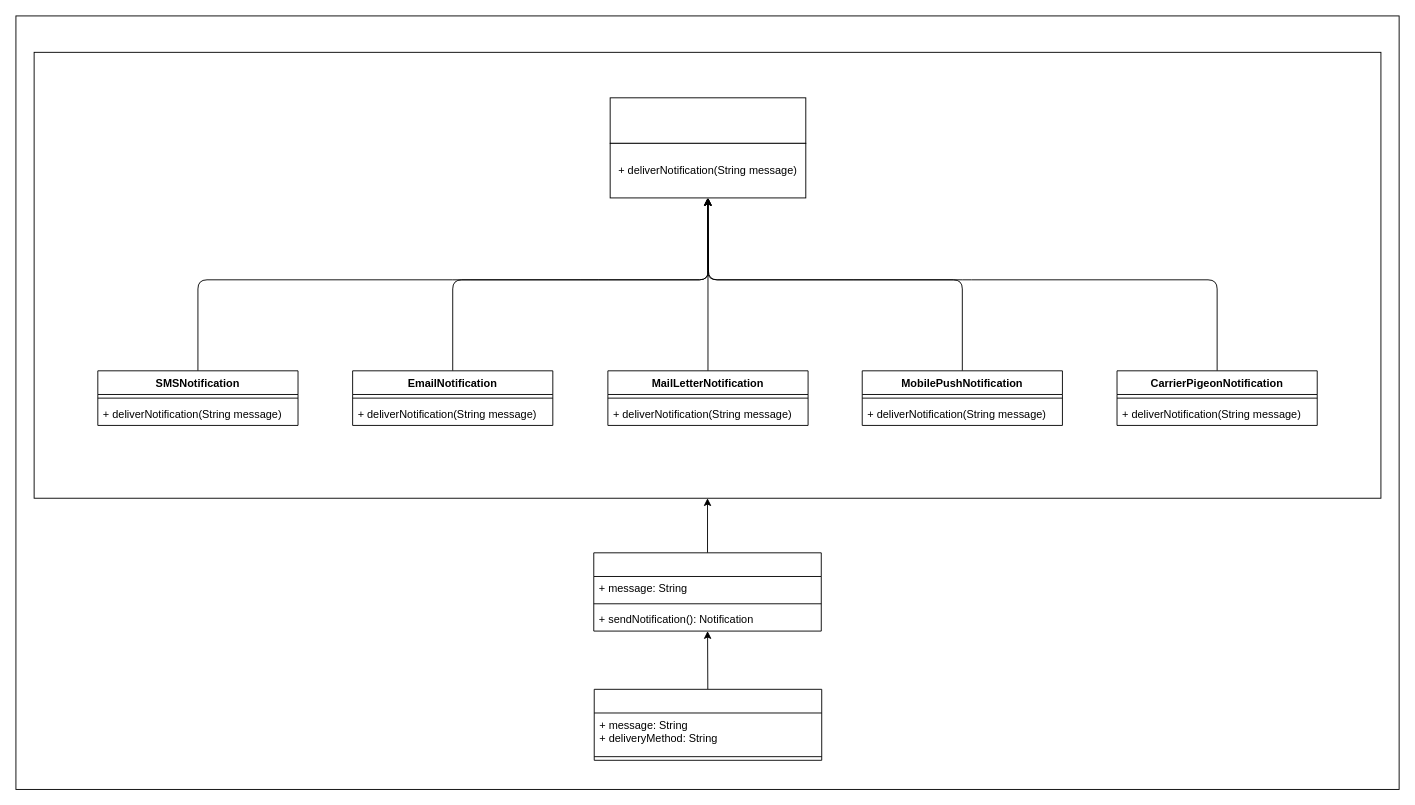
Some shapes in this 1415 by 805 pixel diagram are drawn without their labels. The shapes that lost their labels are listed below. From the top down, each one's box as (x1, y1, x2, y2) in pixels, then its label:
(609, 97, 806, 143): «interface» Notification
(593, 552, 821, 631): NotificationFactory
(593, 688, 822, 760): NotificationController
